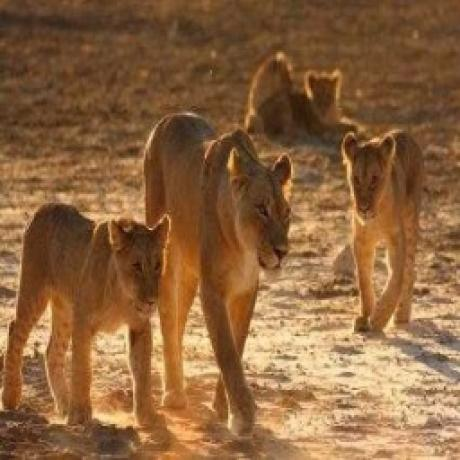Lion: (141, 109, 296, 444), (0, 199, 172, 447), (339, 124, 422, 330), (248, 52, 358, 142)
